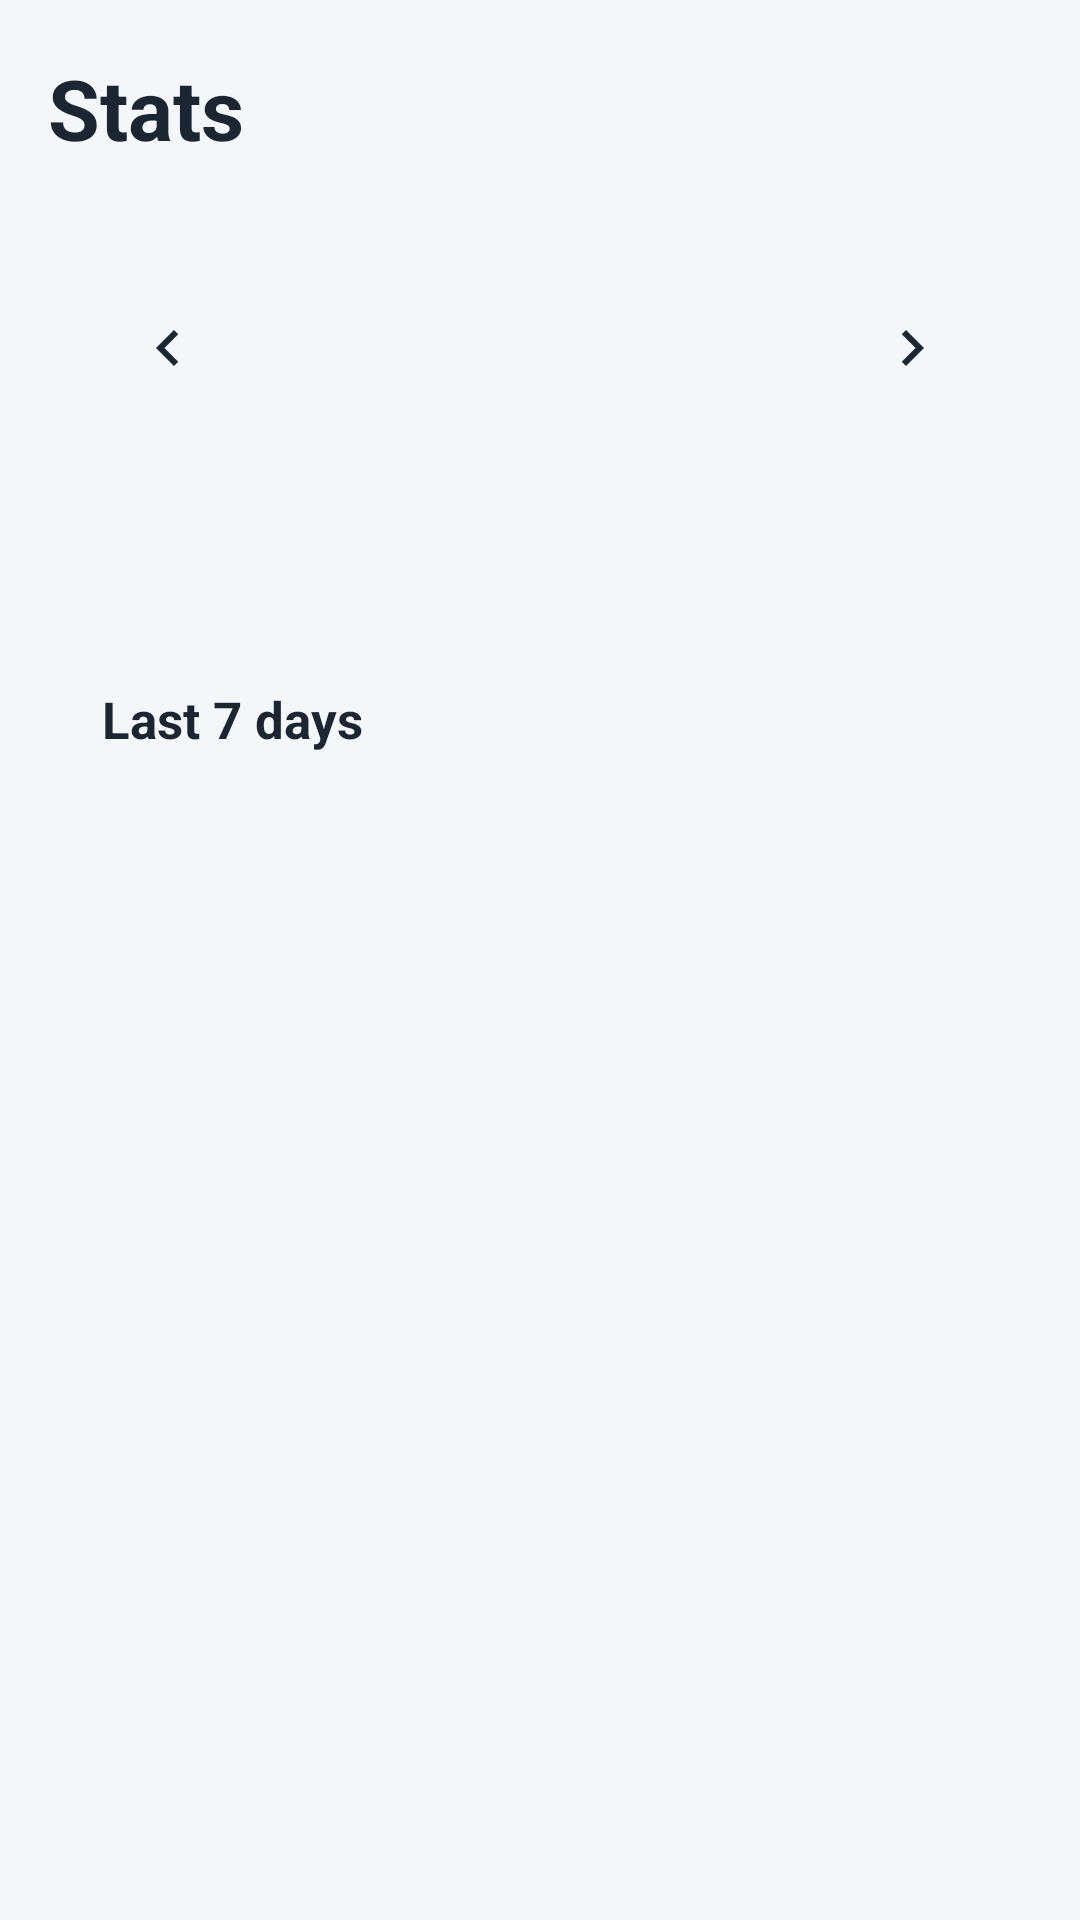

Named icons in this screenshot (1080×1920) and their bounding boxes, (x1, y1, x2, y2):
Next month: (902, 330, 924, 366)
Previous month: (156, 330, 178, 366)
